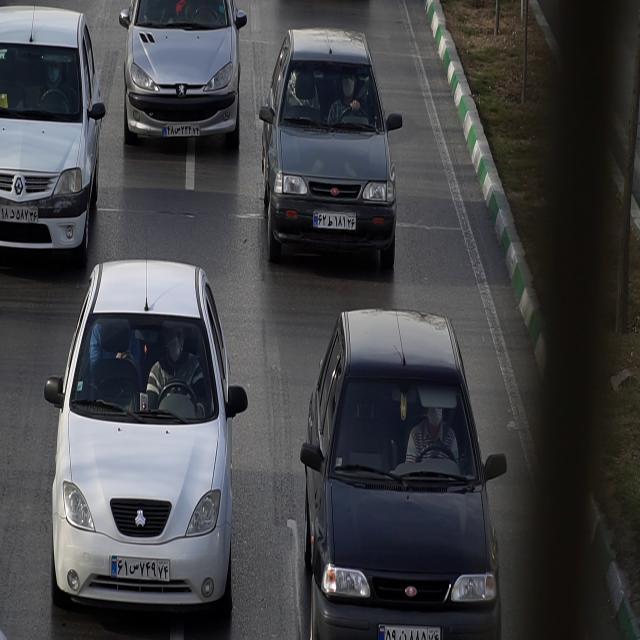car: (42, 264, 250, 618), (303, 314, 507, 637), (260, 32, 403, 258), (3, 7, 103, 253), (118, 0, 249, 153)
